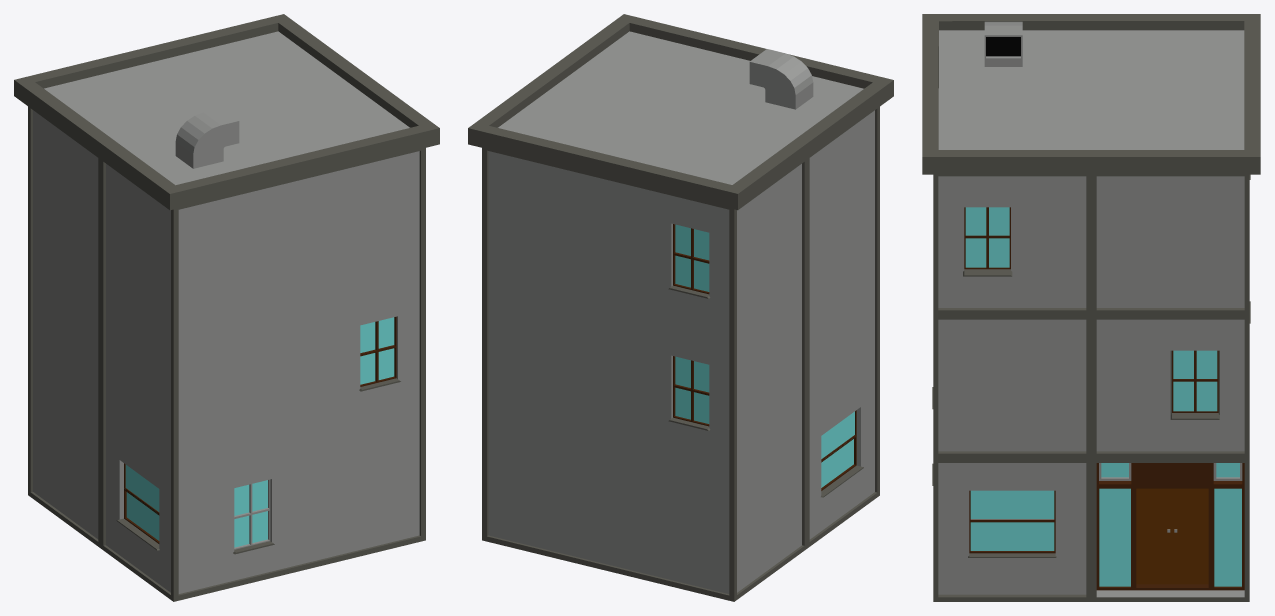
File: house 3.fbx
3 renders of one model, left to right at view 1: azimuth 30°, elevation 25°; view 2: azimuth 150°, elevation 25°; view 3: azimuth 270°, elevation 25°, orthographic. The views are drawn at different scales.
Parts seen in each view (by area): view 1: House 3; view 2: House 3; view 3: House 3.
Part boxes in pixels (x1,y1,x2,y2): House 3: (14, 14, 439, 601); House 3: (468, 14, 893, 601); House 3: (922, 14, 1260, 601).
Size of the model in its own units: 214 by 335 by 214.
